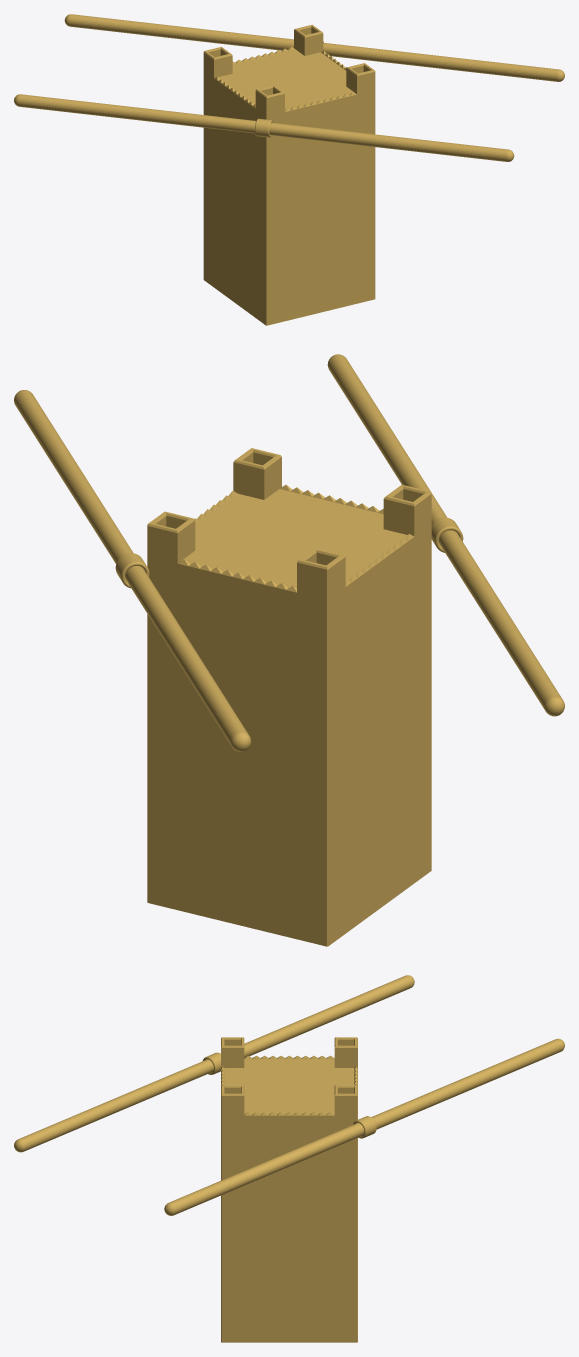
The model's file is mizbeach_zahav_bevel.fbx.
3 views of the same model, one above another, from view 1: azimuth 30°, elevation 25°; view 2: azimuth 150°, elevation 25°; view 3: azimuth 270°, elevation 25° (orthographic). The views are drawn at different scales.
Parts seen in each view (by area): view 1: mizbeach, rod, rod.001; view 2: mizbeach, rod.001, rod; view 3: mizbeach, rod.001, rod.
Part boxes in pixels (left/top/right/bottom): mizbeach: left=203, top=24, right=375, bottom=325; rod: left=14, top=94, right=514, bottom=161; rod.001: left=64, top=14, right=564, bottom=81; mizbeach: left=147, top=448, right=431, bottom=946; rod.001: left=14, top=390, right=251, bottom=751; rod: left=327, top=354, right=564, bottom=716; mizbeach: left=221, top=1037, right=357, bottom=1342; rod.001: left=164, top=1038, right=564, bottom=1215; rod: left=14, top=975, right=414, bottom=1152.
Size of the model in its own units: 201 by 100 by 201.
